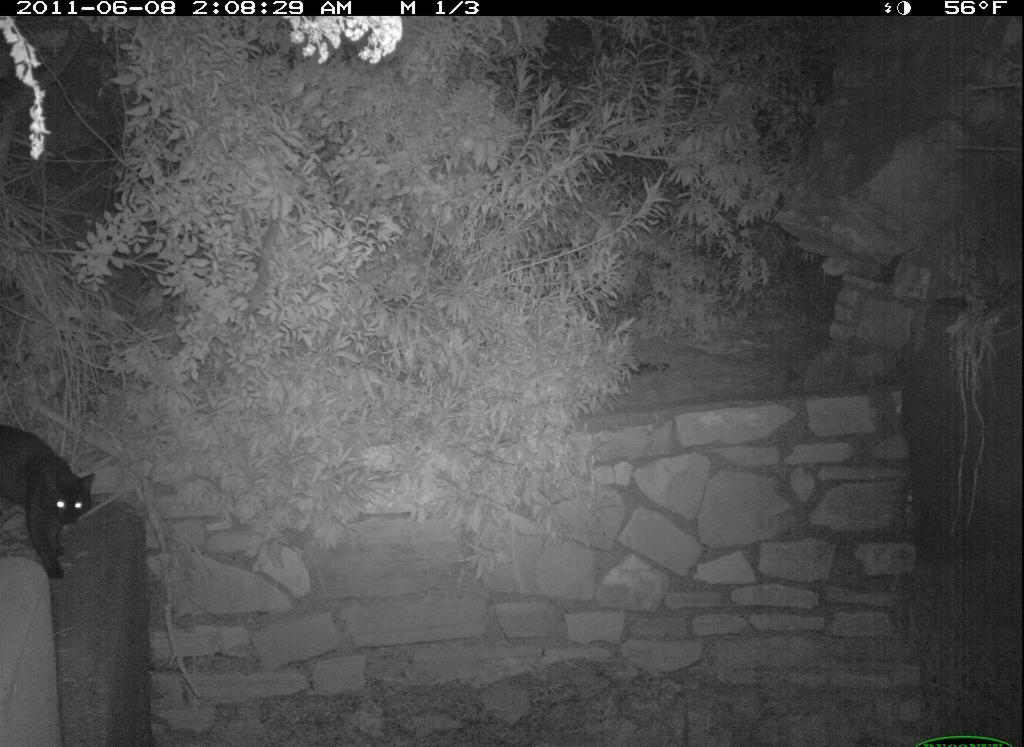cat: (8, 411, 107, 588)
